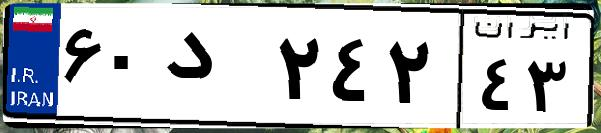0: (110, 28, 158, 98)
2: (270, 28, 330, 110), (385, 28, 445, 110)
3: (525, 38, 570, 115)
4: (330, 28, 385, 110), (475, 38, 525, 113)
6: (57, 26, 110, 100)
د: (158, 20, 270, 120)
